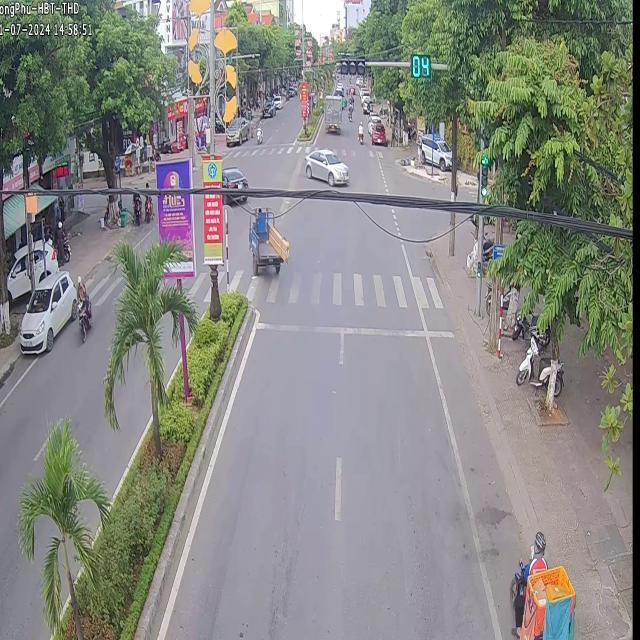car: (247, 207, 288, 274), (303, 147, 347, 185), (323, 94, 340, 131), (220, 165, 247, 187), (223, 194, 246, 199)
green_light: (338, 54, 364, 74), (479, 154, 487, 196)
stop_line: (255, 318, 453, 335)
